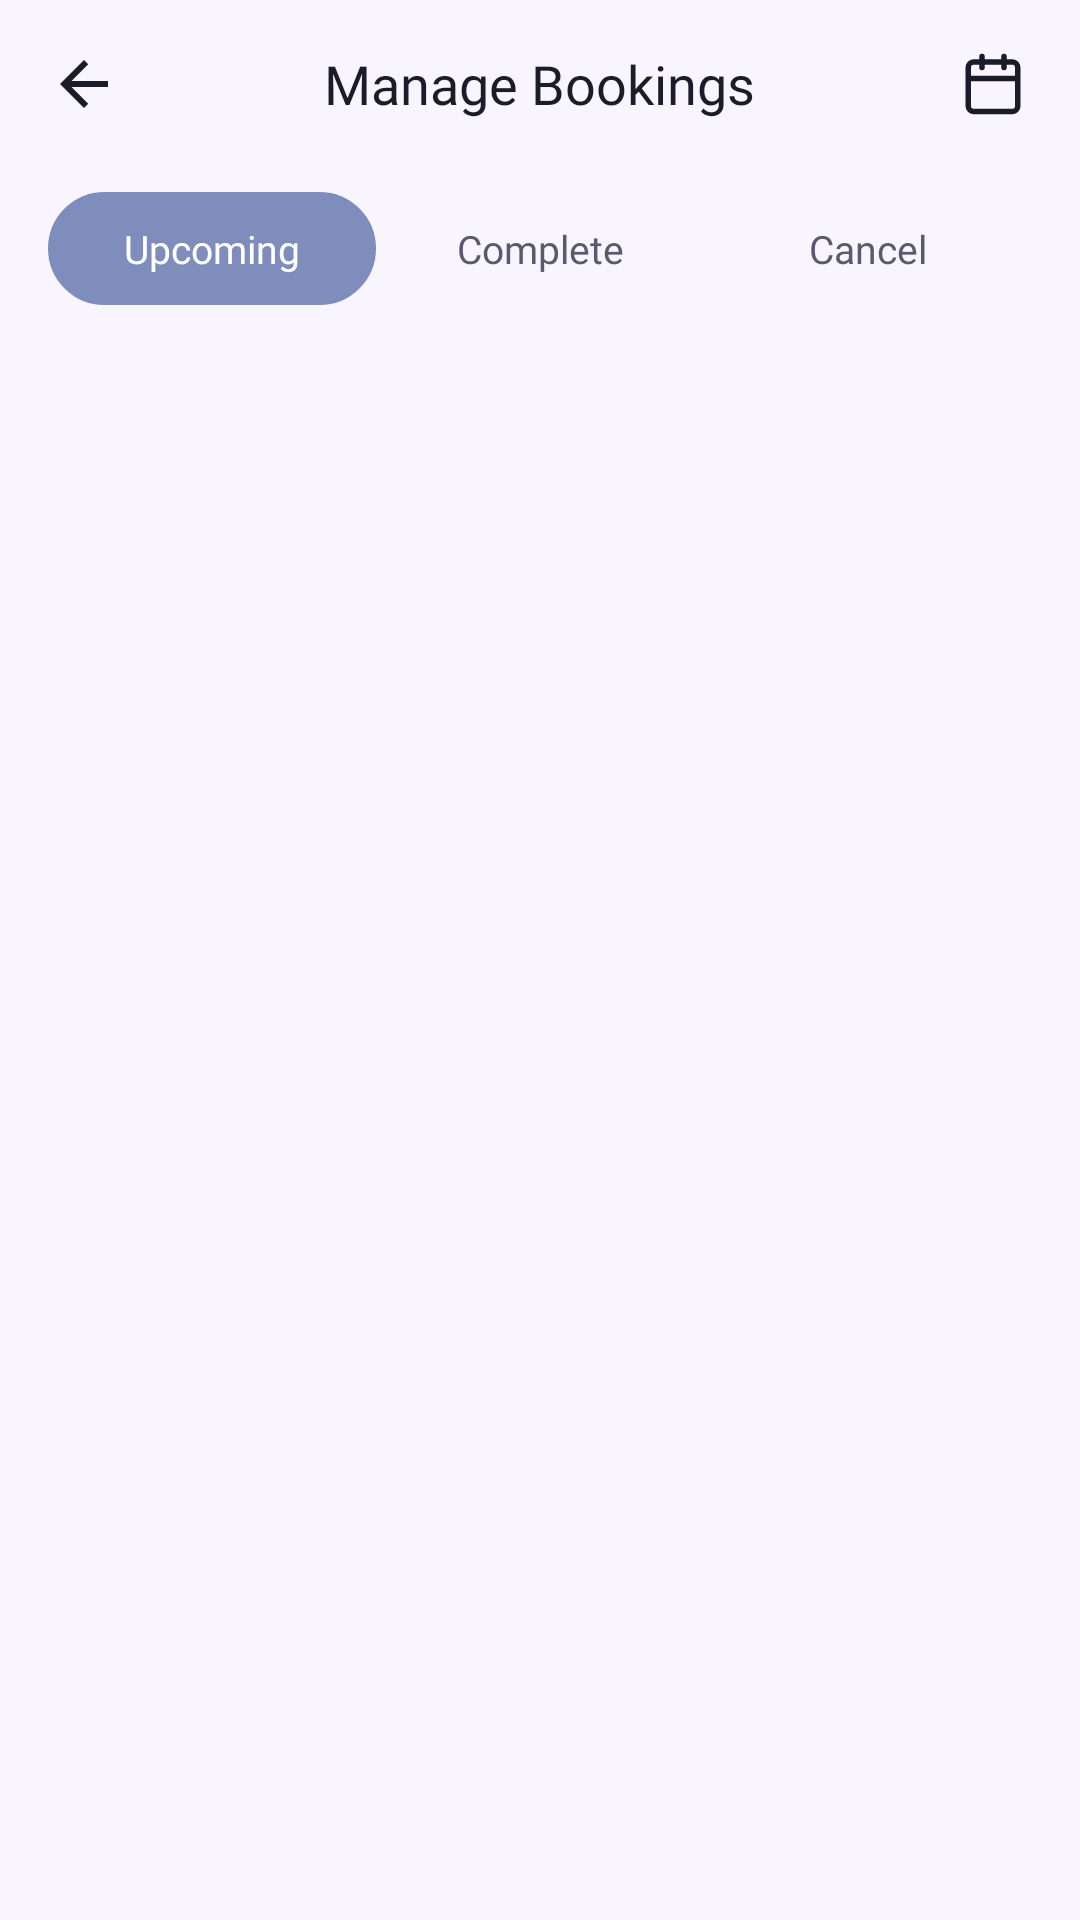

Named icons in this screenshot (1080*1920) and their centers, (x=x, y=y):
back: (x=84, y=84)
calendar: (x=993, y=84)
